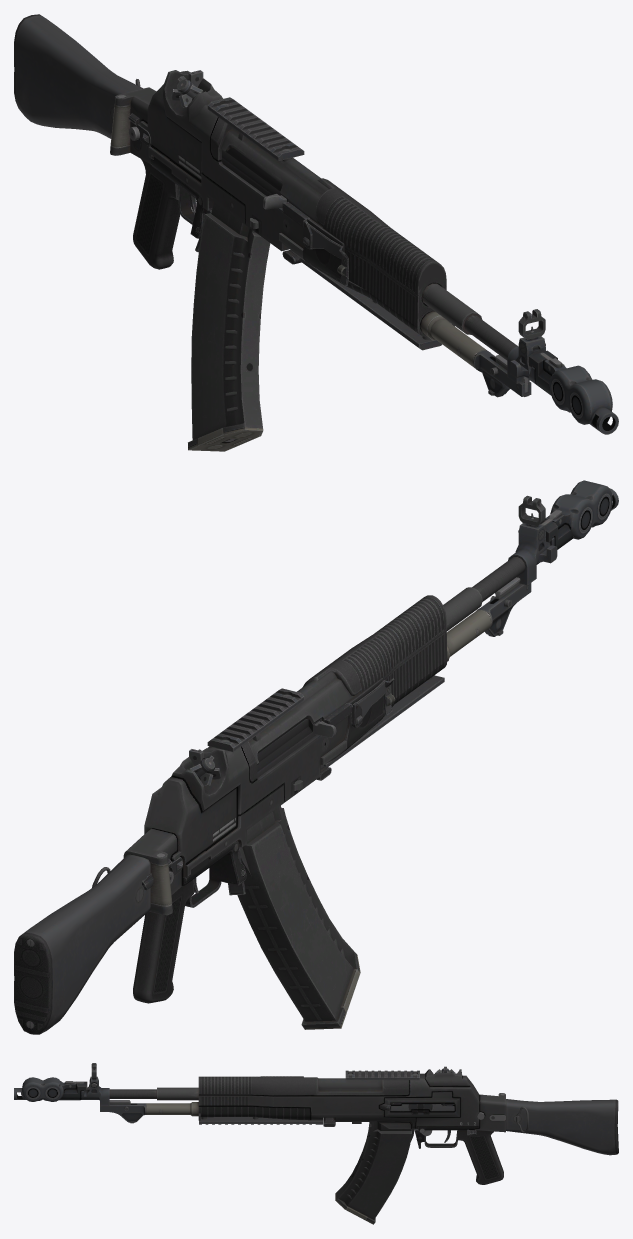
The model's file is raw.glb.
The picture shows the model from 3 angles, top to bottom: view 1: azimuth 30°, elevation 25°; view 2: azimuth 150°, elevation 25°; view 3: azimuth 270°, elevation 25°; orthographic projection. The views are drawn at different scales.
Visible parts, largest first — view 1: an94_LOD0; view 2: an94_LOD0; view 3: an94_LOD0.
Boxes of the visible parts, box(x1,y1,x2,y2) form: an94_LOD0: box(14, 14, 618, 451); an94_LOD0: box(14, 480, 618, 1034); an94_LOD0: box(14, 1063, 618, 1224).
Bounding box in the file's own units: 0.0959 × 0.2865 × 0.9224.
Materials: 1 (1 with a texture image).
